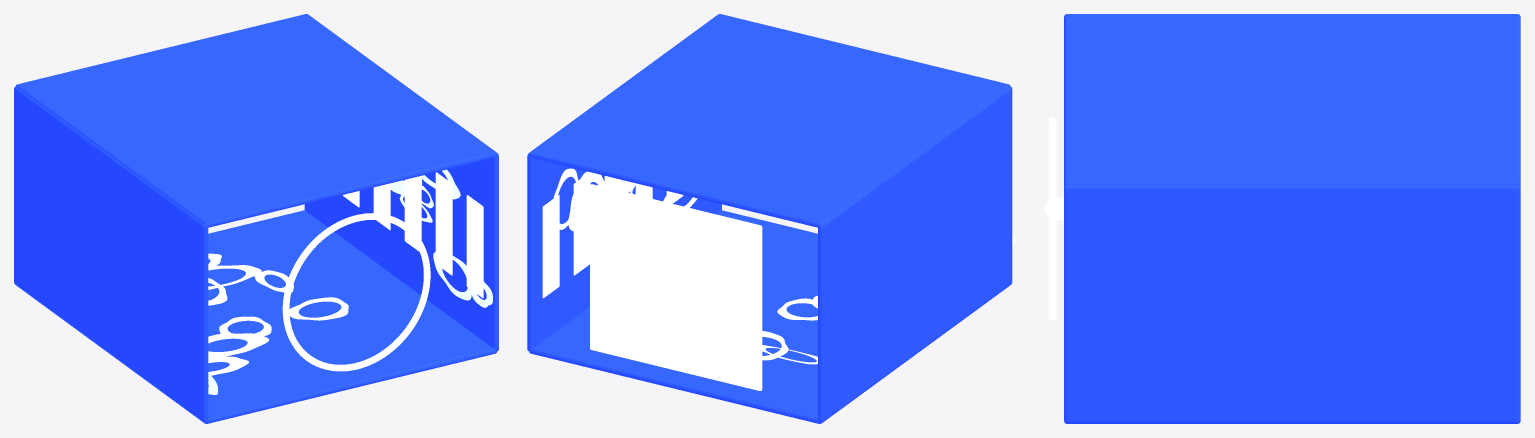
Rendered from lusion-portal-room-v02.glb.
3 views of the same model, side by side, from view 1: azimuth 30°, elevation 25°; view 2: azimuth 150°, elevation 25°; view 3: azimuth 270°, elevation 25° (orthographic). The views are drawn at different scales.
Visible parts, largest first — view 1: Portal_Room_Ceiling, Portal_Room_Wall_L, Portal_Room_Floor, Portal_Room_Wall_R, Portal_CoreRing, Portal_Aperture_01_R, Portal_Aperture_00_R, Portal_Aperture_02_R, Portal_Pattern_12, Portal_Pattern_16, Portal_Aperture_03_R, Portal_Pattern_00; view 2: Portal_Room_Ceiling, Portal_Room_Wall_L, Portal_BackReflector, Portal_Room_Floor, Portal_Room_Wall_R, Portal_Aperture_05_R, Portal_Aperture_04_R; view 3: Portal_Room_Wall_R, Portal_Room_Ceiling, Portal_CoreRing, Portal_Room_Floor.
Boxes of the visible parts, x1=… form: Portal_Room_Ceiling: x1=15, y1=14, x2=497, y2=227; Portal_Room_Wall_L: x1=14, y1=86, x2=208, y2=422; Portal_Room_Floor: x1=23, y1=210, x2=497, y2=423; Portal_Room_Wall_R: x1=304, y1=153, x2=498, y2=351; Portal_CoreRing: x1=282, y1=213, x2=430, y2=371; Portal_Aperture_01_R: x1=435, y1=172, x2=452, y2=275; Portal_Aperture_00_R: x1=466, y1=195, x2=483, y2=298; Portal_Aperture_02_R: x1=404, y1=176, x2=421, y2=251; Portal_Pattern_12: x1=208, y1=333, x2=268, y2=359; Portal_Pattern_16: x1=289, y1=297, x2=348, y2=320; Portal_Aperture_03_R: x1=373, y1=183, x2=390, y2=229; Portal_Pattern_00: x1=219, y1=316, x2=271, y2=337; Portal_Room_Ceiling: x1=529, y1=14, x2=1010, y2=227; Portal_Room_Wall_L: x1=818, y1=86, x2=1012, y2=422; Portal_BackReflector: x1=590, y1=184, x2=762, y2=390; Portal_Room_Floor: x1=529, y1=210, x2=1000, y2=423; Portal_Room_Wall_R: x1=527, y1=152, x2=721, y2=351; Portal_Aperture_05_R: x1=542, y1=195, x2=559, y2=298; Portal_Aperture_04_R: x1=573, y1=172, x2=590, y2=275; Portal_Room_Wall_R: x1=1064, y1=186, x2=1520, y2=422; Portal_Room_Ceiling: x1=1064, y1=14, x2=1520, y2=186; Portal_CoreRing: x1=1048, y1=117, x2=1056, y2=320; Portal_Room_Floor: x1=1064, y1=420, x2=1520, y2=423.
Bounding box in the file's own units: 8.6 × 5.6 × 10.02.
